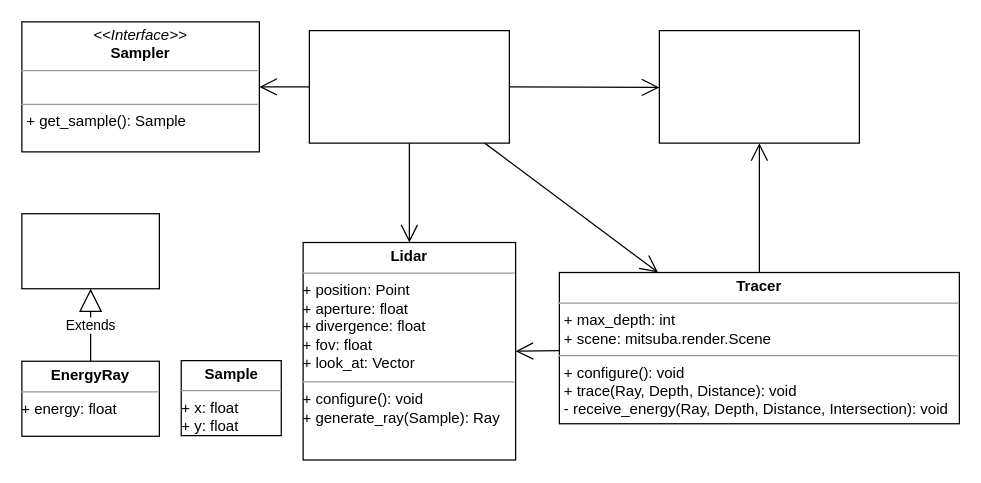
Image size: 981x483. Some labels were removed from this diagram. Here are the shapes that lost their labels. From the top down, the centre of each, then its label:
At [408,86]: "Scene + render(): void".
At [758,86]: "Recorder + filename: str + commit(Record): void + save(): void".
At [90,250]: "Ray + origin: Point + direction: Vector".
